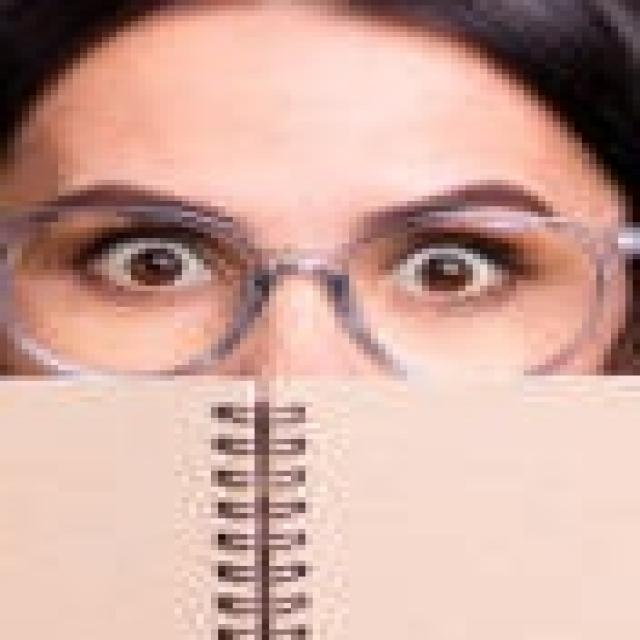Anxiety: (0, 8, 625, 592)
